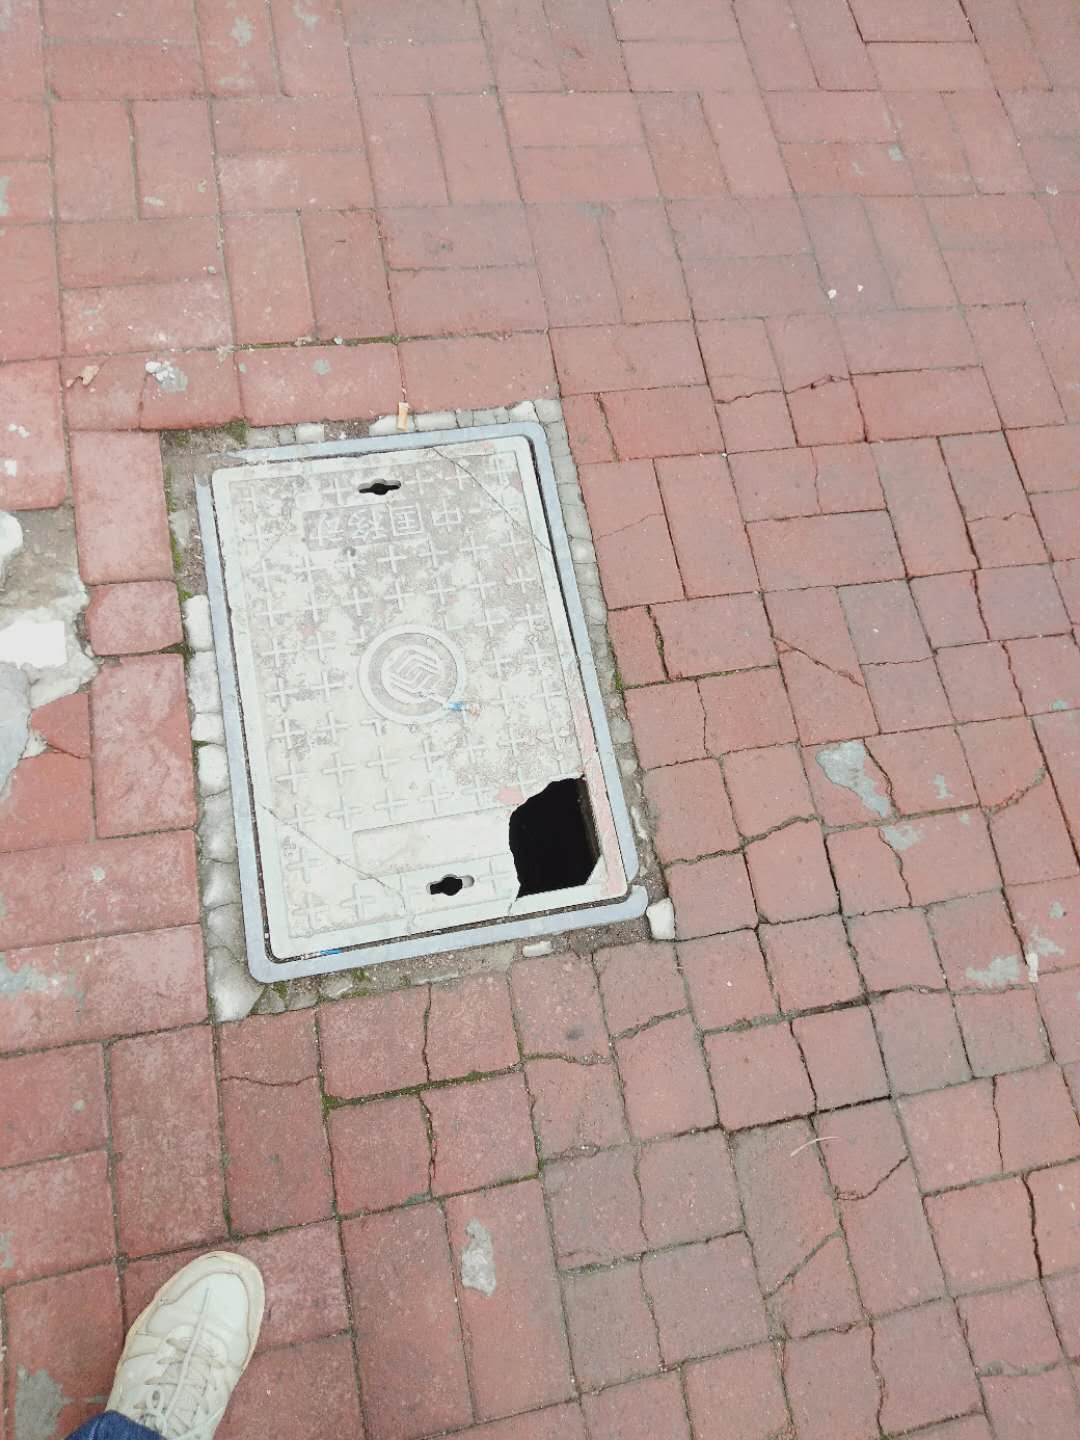broke: (189, 421, 650, 984)
